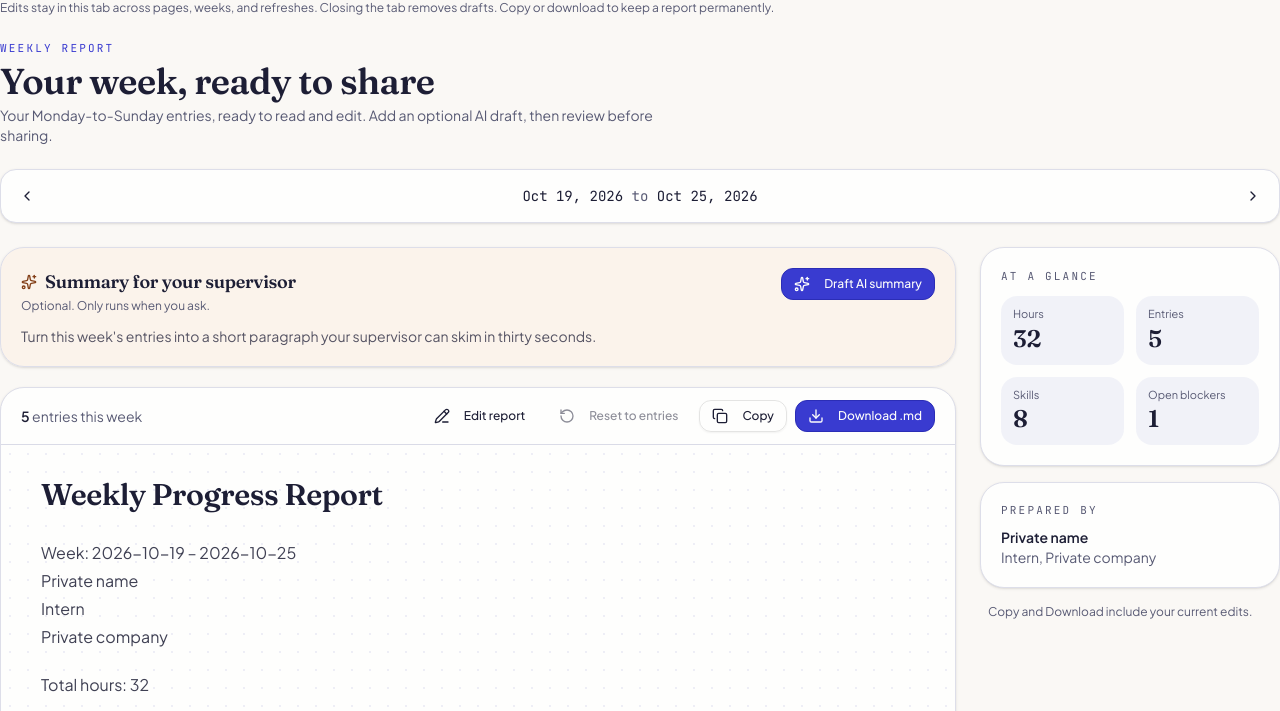
Test: discards a late AI response after switching to another week
Click the button with test id "button-ai-summary" at (858, 284), box [781,268,935,300]
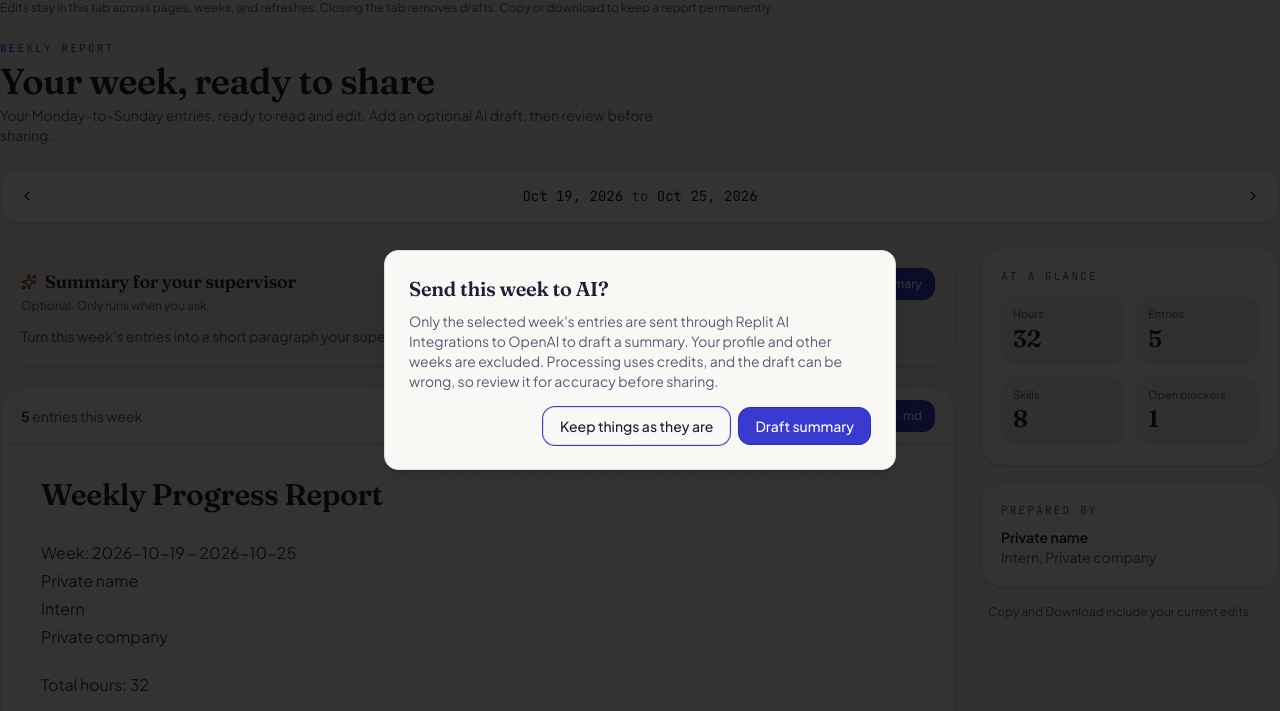
Click the button with test id "button-confirm-action" at (805, 426), box [738,407,871,445]
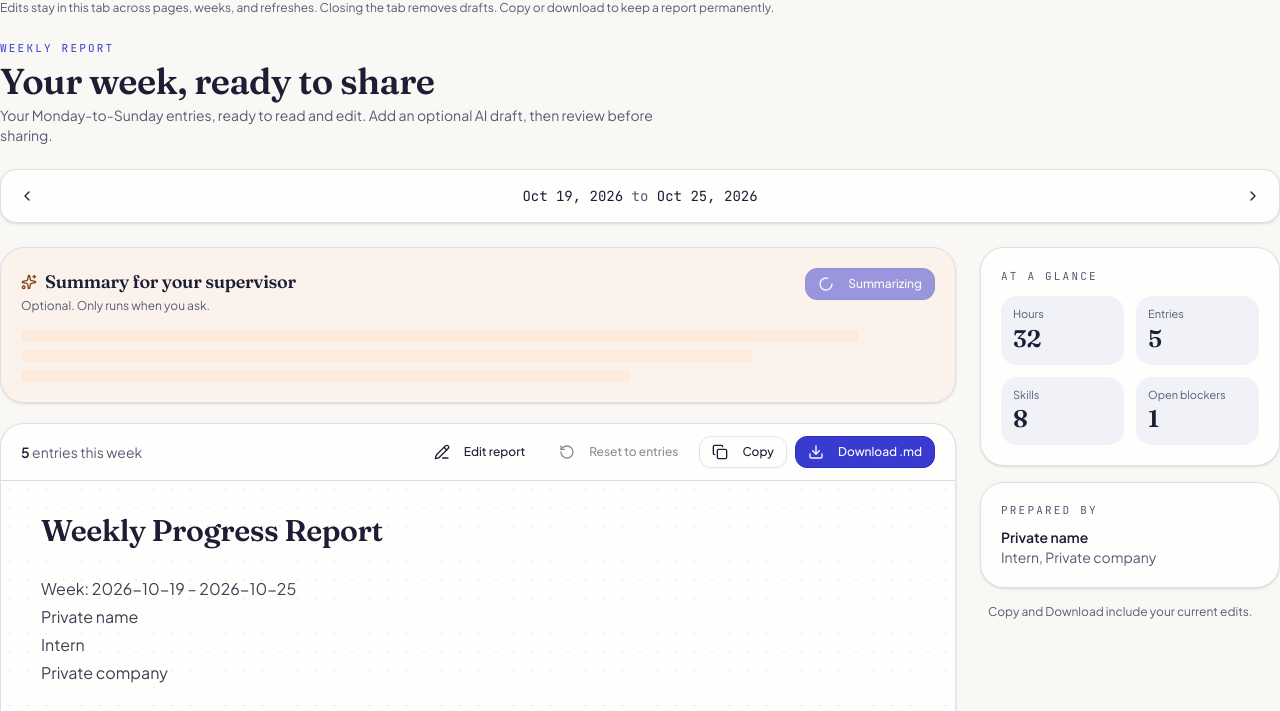
Click the button with test id "button-next-week" at (1253, 196), box [1235,178,1271,214]
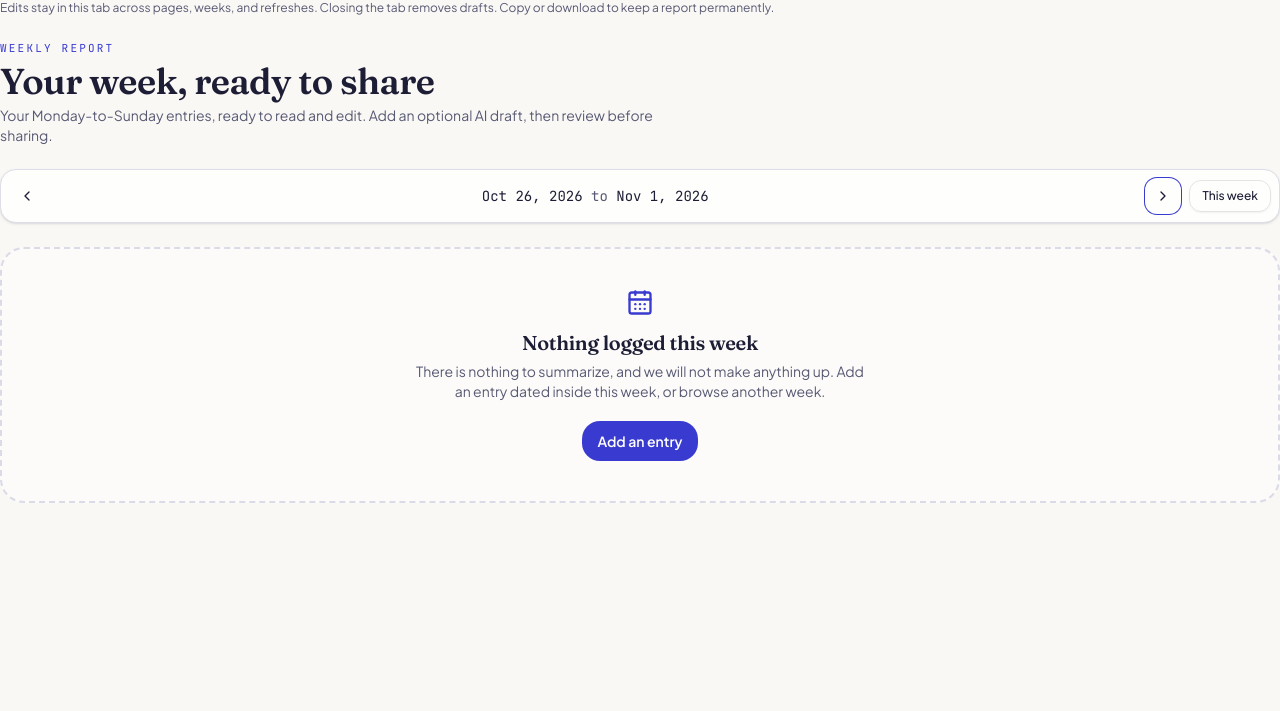
Expected: the element with test id "empty-report" is shown, [0,246,1279,502]
